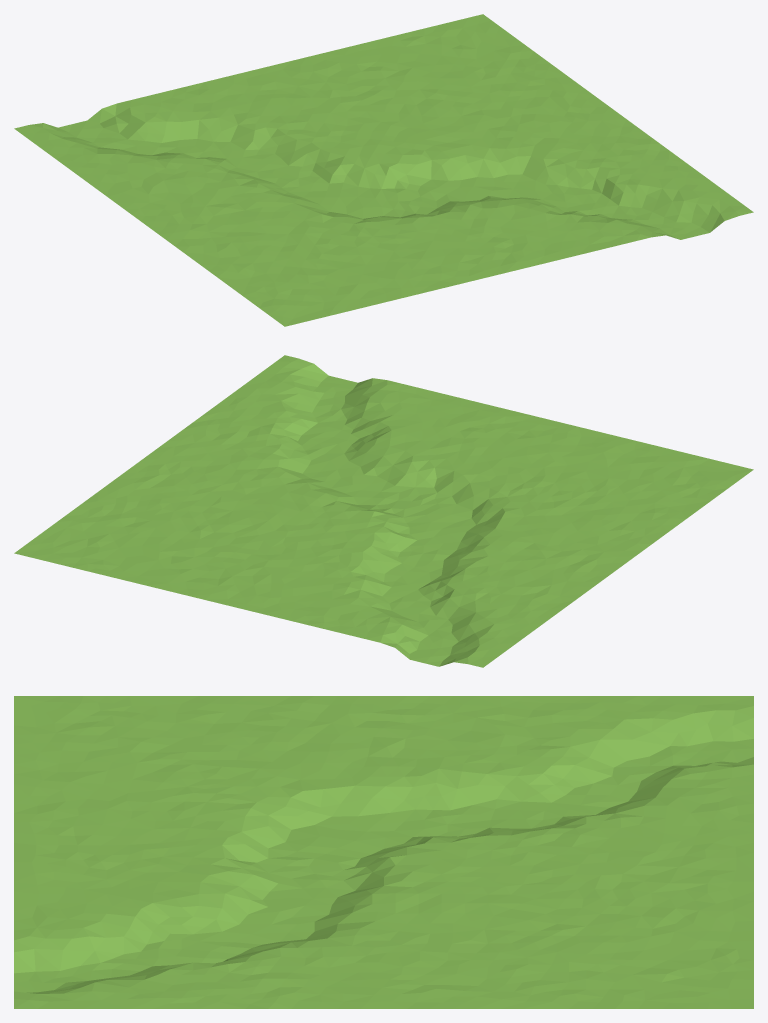
File: MT_River_L_c_01_R_LOD.fbx
The picture shows the model from 3 angles, top to bottom: view 1: azimuth 30°, elevation 25°; view 2: azimuth 150°, elevation 25°; view 3: azimuth 270°, elevation 25°; orthographic projection. The views are drawn at different scales.
Parts seen in each view (by area): view 1: MT_River_L_c_01_R_LOD0; view 2: MT_River_L_c_01_R_LOD0; view 3: MT_River_L_c_01_R_LOD0.
Boxes of the visible parts, bbox=[...] form: MT_River_L_c_01_R_LOD0: bbox=[14, 14, 753, 326]; MT_River_L_c_01_R_LOD0: bbox=[14, 355, 753, 667]; MT_River_L_c_01_R_LOD0: bbox=[14, 696, 753, 1008].
Size of what is drawn, in the model's own units: 10000 by 224 by 10000.
